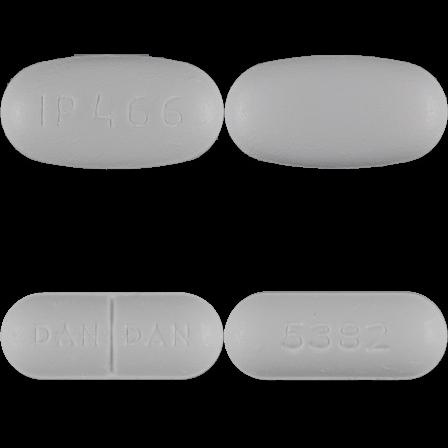42549-518: (0, 0, 224, 224)
